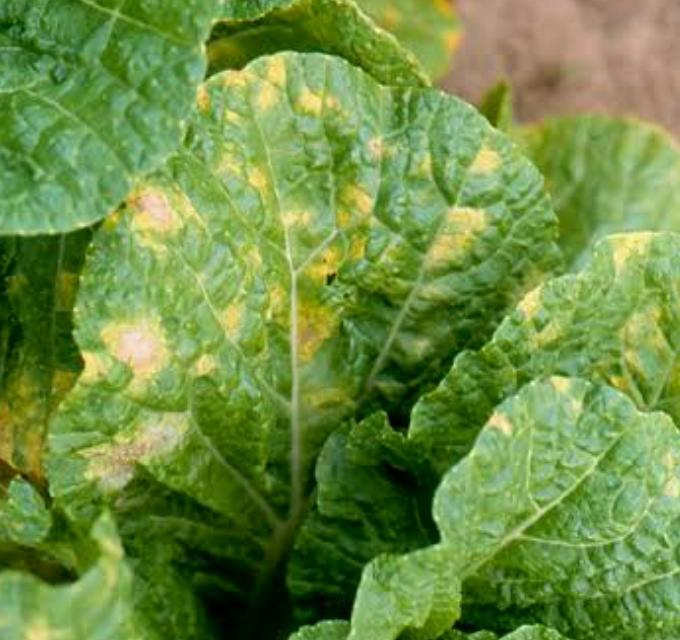Bok-Choy-Diseased: (77, 45, 527, 640)
